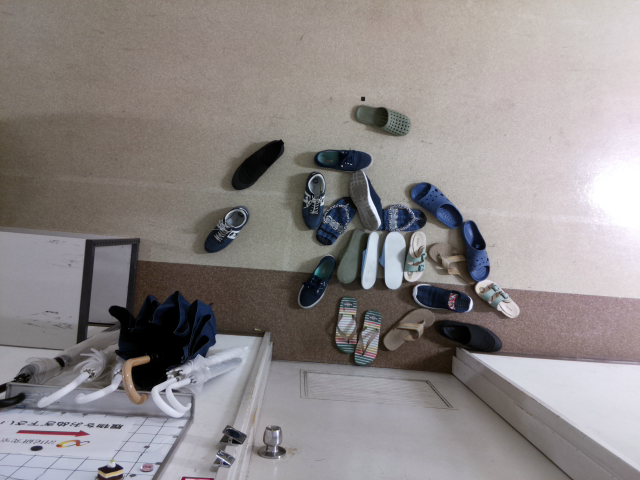Copy of Copy of Copy of Copy of Copy of Copy of Copy of Copy of Copy of Copy of: (378, 303, 441, 351), (432, 314, 503, 355), (345, 168, 387, 231), (315, 189, 358, 247), (352, 304, 388, 368), (332, 293, 368, 357), (371, 202, 427, 242), (334, 225, 369, 287), (354, 229, 389, 291), (375, 229, 410, 291), (429, 237, 471, 285), (400, 229, 429, 284)
Copy of Copy of Copy of Copy of Copy of Copy of Copy of Copy of Copy of shoe: (408, 180, 464, 231)
Copy of Copy of Copy of Copy of Copy of Copy of Copy of Copy of shoe: (456, 215, 489, 287)
Copy of Copy of Copy of Copy of Copy of Copy of Copy of shoe: (470, 276, 523, 323)
Copy of Copy of Copy of Copy of Copy of Copy of shoe: (411, 279, 474, 321)
Copy of Copy of Copy of Copy of Copy of shoe: (293, 250, 340, 312)
Copy of Copy of Copy of Copy of shoe: (297, 170, 328, 231)
Copy of Copy of Copy of shoe: (314, 143, 376, 178)
Copy of Copy of shoe: (353, 99, 412, 143)
Copy of shoe: (228, 135, 287, 195)
shoe: (201, 204, 250, 256)
